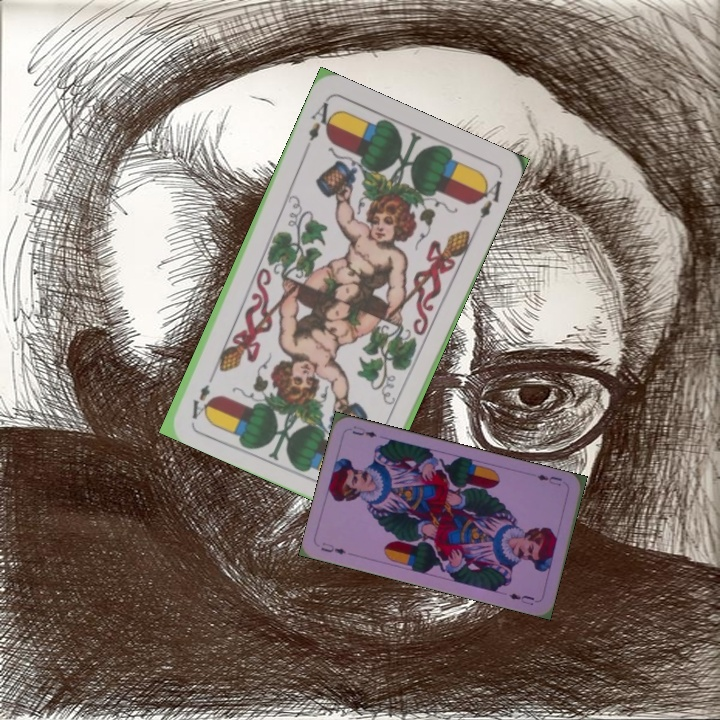EA: (301, 98, 338, 153)
EU: (529, 470, 564, 489), (317, 538, 348, 557)
